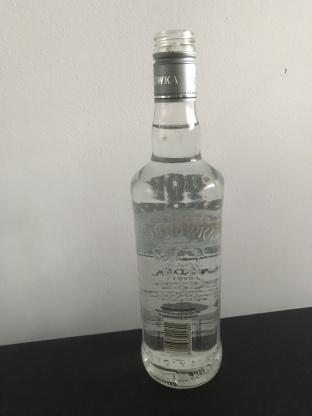nakretka: (151, 28, 198, 103)
